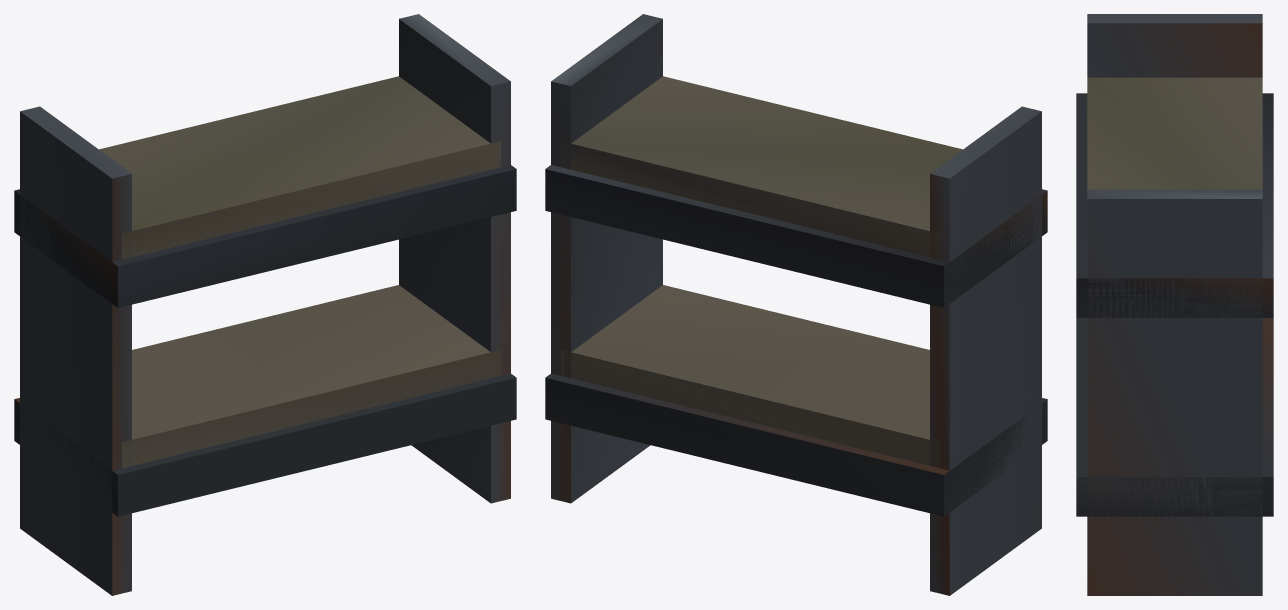
The model's file is bunk.glb.
3 views of the same model, side by side, from view 1: azimuth 30°, elevation 25°; view 2: azimuth 150°, elevation 25°; view 3: azimuth 270°, elevation 25° (orthographic). The views are drawn at different scales.
Parts seen in each view (by area): view 1: bunk; view 2: bunk; view 3: bunk.
Part boxes in pixels (x1,y1,x2,y2): bunk: (14,14,516,595); bunk: (545,14,1047,595); bunk: (1076,14,1273,595).
Bounding box in the file's own units: 40 × 40 × 18.
